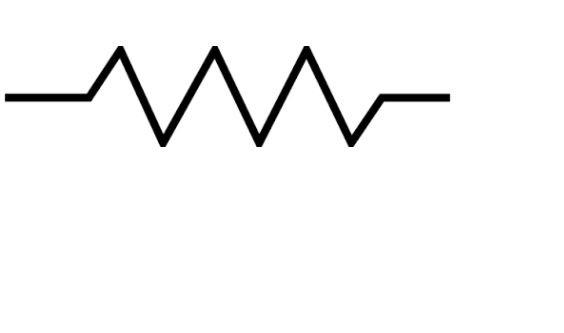resistor: (57, 22, 413, 162)
